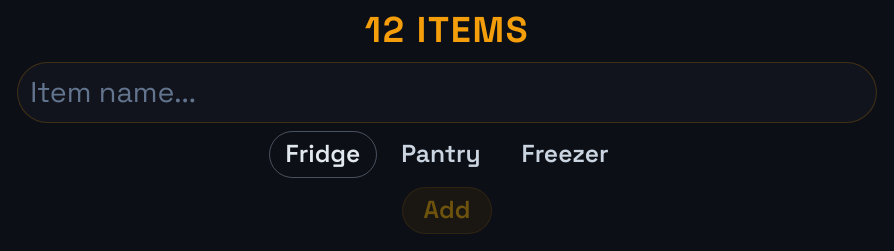
it: InventoryQuickAddWidget › typing a name enables the Add button
In the field with placeholder "Item name...": (447, 92) [17, 62, 877, 123], type "Eggs"
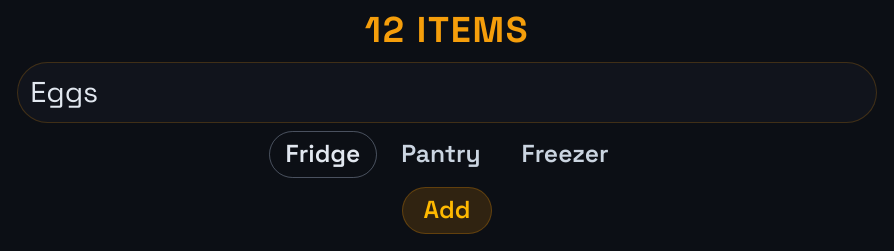
Expected: the button "Add" is enabled, [402, 187, 492, 234]
